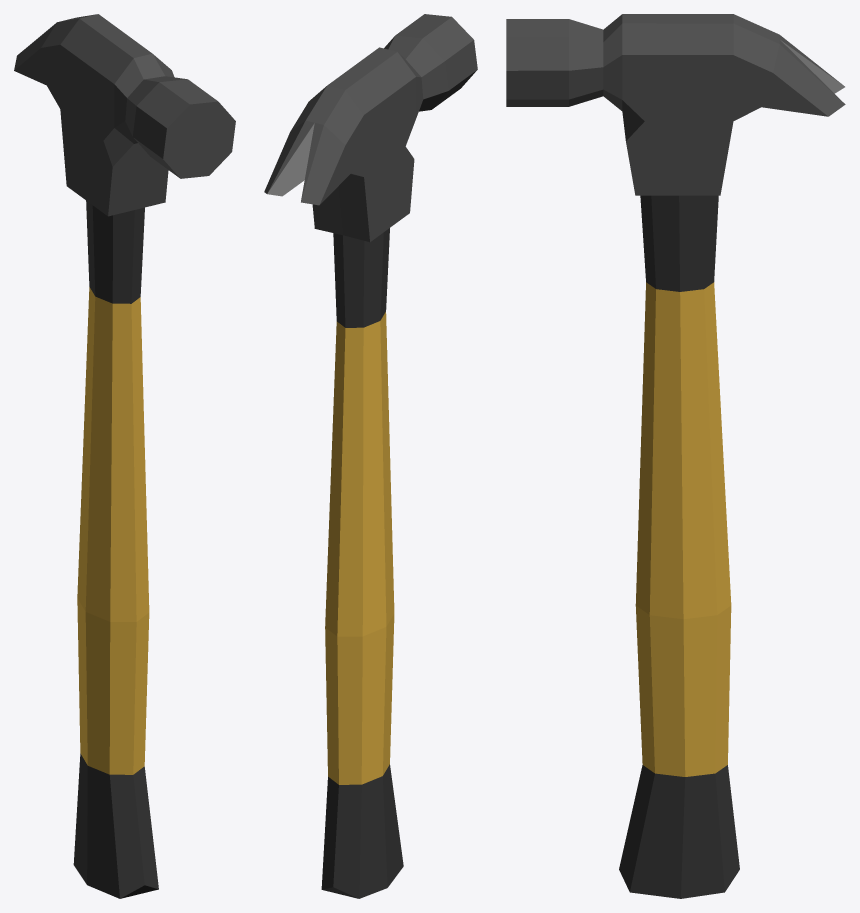
The model's file is hammer_3.fbx.
3 views of the same model, side by side, from view 1: azimuth 30°, elevation 25°; view 2: azimuth 150°, elevation 25°; view 3: azimuth 270°, elevation 25° (orthographic). The views are drawn at different scales.
Parts seen in each view (by area): view 1: hammer_3; view 2: hammer_3; view 3: hammer_3.
Part boxes in pixels (x1,y1,x2,y2): hammer_3: (14, 14, 235, 898); hammer_3: (264, 14, 477, 898); hammer_3: (506, 14, 845, 898).
Size of the model in its own units: 5.66 by 62.68 by 22.24.
Materials: 1 (1 with a texture image).
